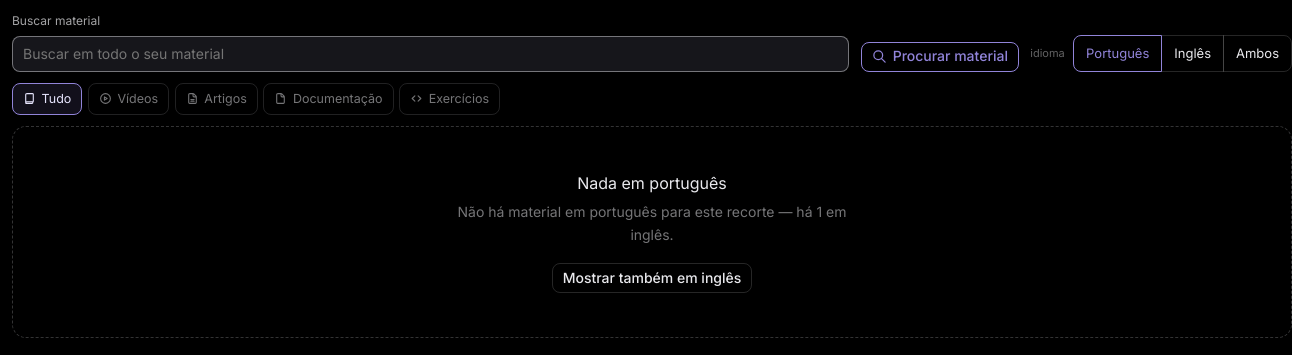
com busca, atravessa todo o material do plano
Type "kafka" into the search field labelled "Buscar material". click: (431, 54)
box: [12,36,849,72]
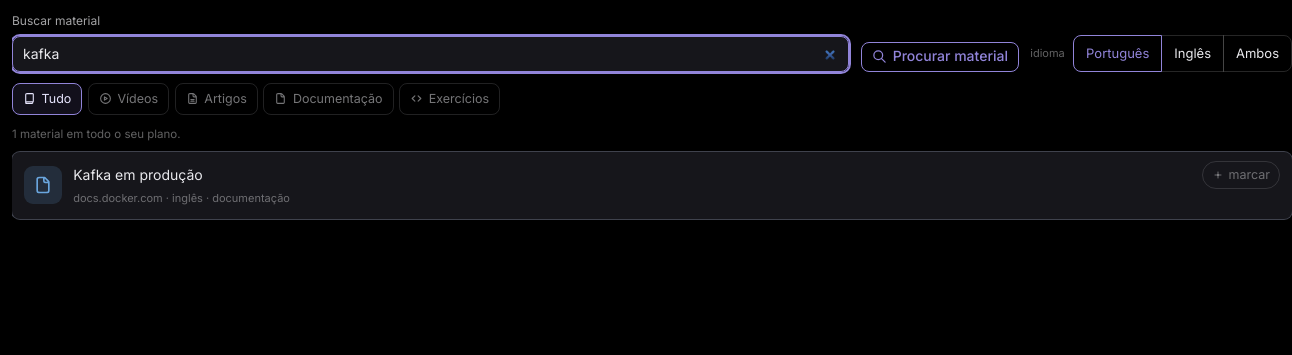
Check: the button "Kafka em produção" is shown, box [73,164,1193,186]
Check: the text "1 material em todo o seu plano." is shown, box [12,127,180,141]
